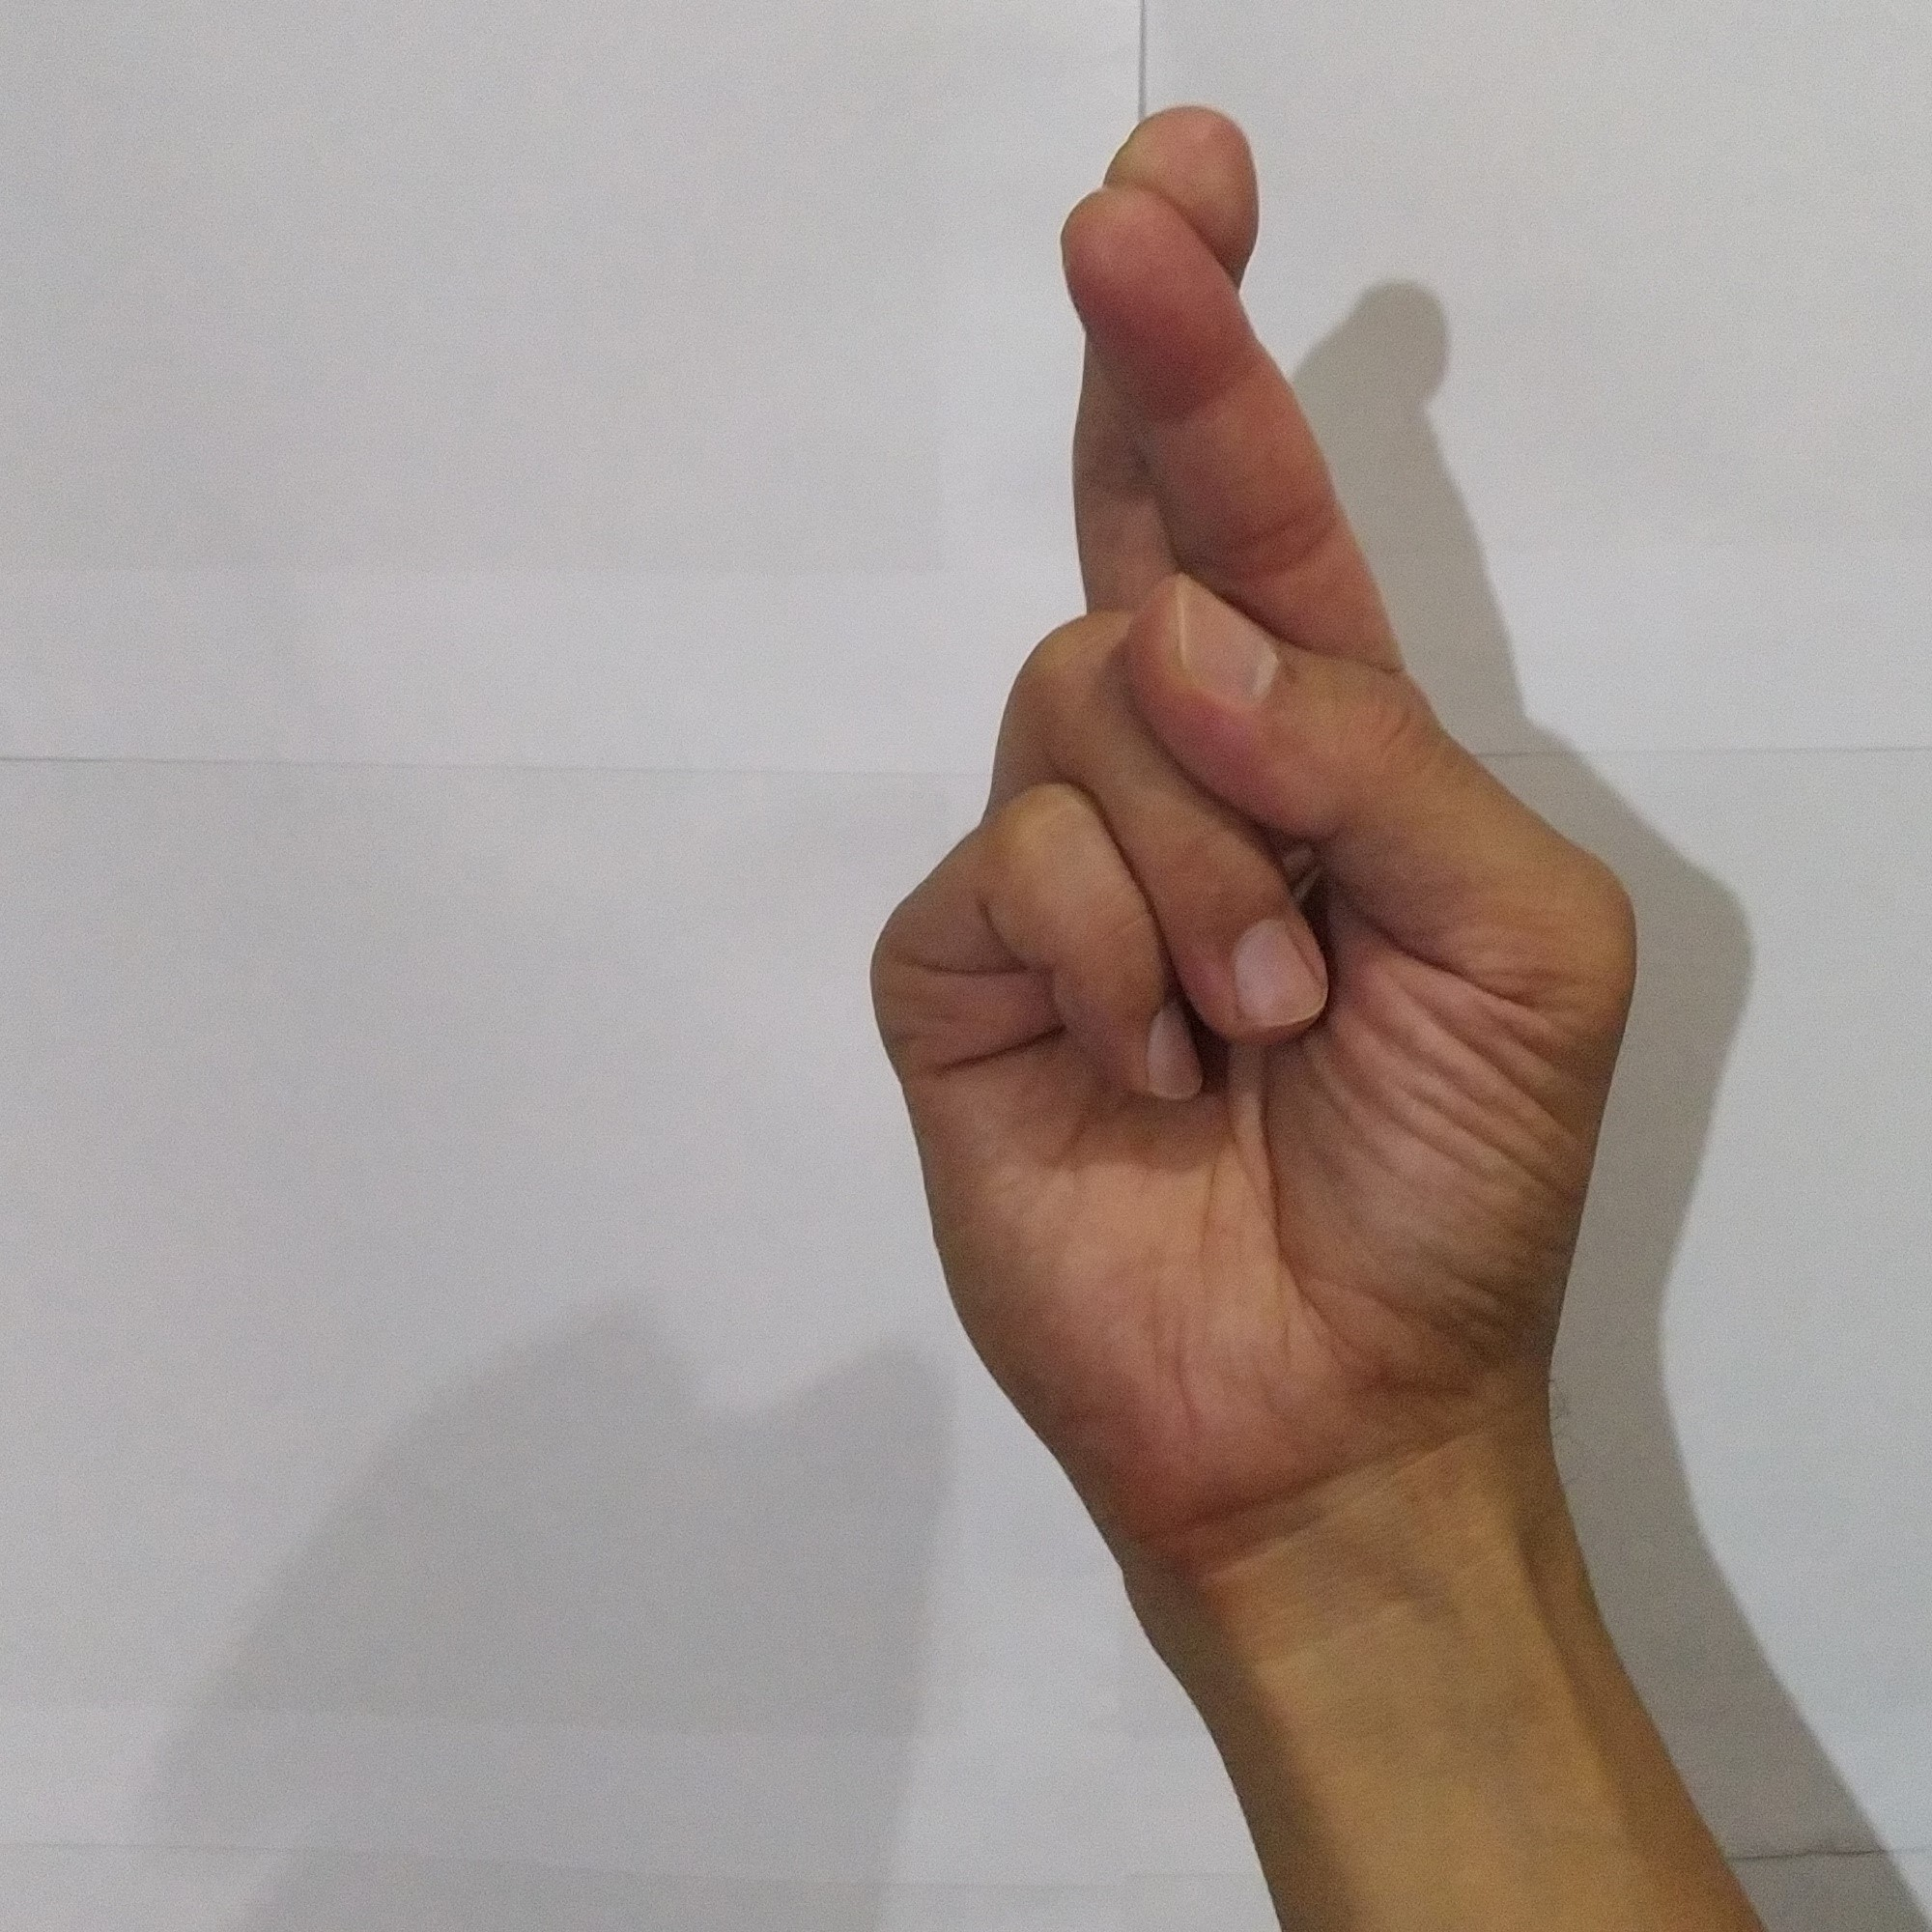R: (837, 78, 1658, 1497)
